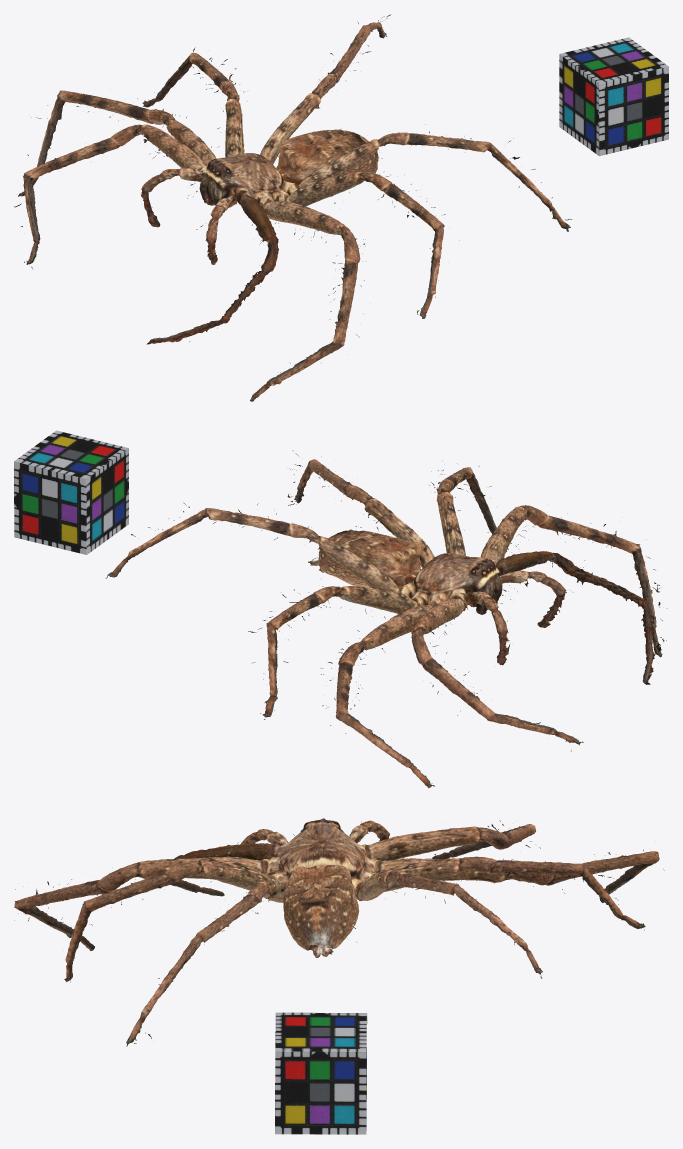
File: huntsman-spider.glb
3 views of the same model, one above another, from view 1: azimuth 30°, elevation 25°; view 2: azimuth 150°, elevation 25°; view 3: azimuth 270°, elevation 25° (orthographic). The views are drawn at different scales.
Visible parts, largest first — view 1: QS1319-W20_5, Cube_2; view 2: QS1319-W20_5, Cube_2; view 3: QS1319-W20_5, Cube_2.
Boxes of the visible parts, x1,y1,x2,y2 form: QS1319-W20_5: (14, 14, 571, 401); Cube_2: (559, 37, 668, 156); QS1319-W20_5: (105, 450, 667, 788); Cube_2: (14, 430, 128, 554); QS1319-W20_5: (14, 818, 664, 1046); Cube_2: (275, 1012, 367, 1134).
Size of the model in its own units: 5.93 by 1.98 by 5.14.
Materials: 2 (2 with a texture image).
